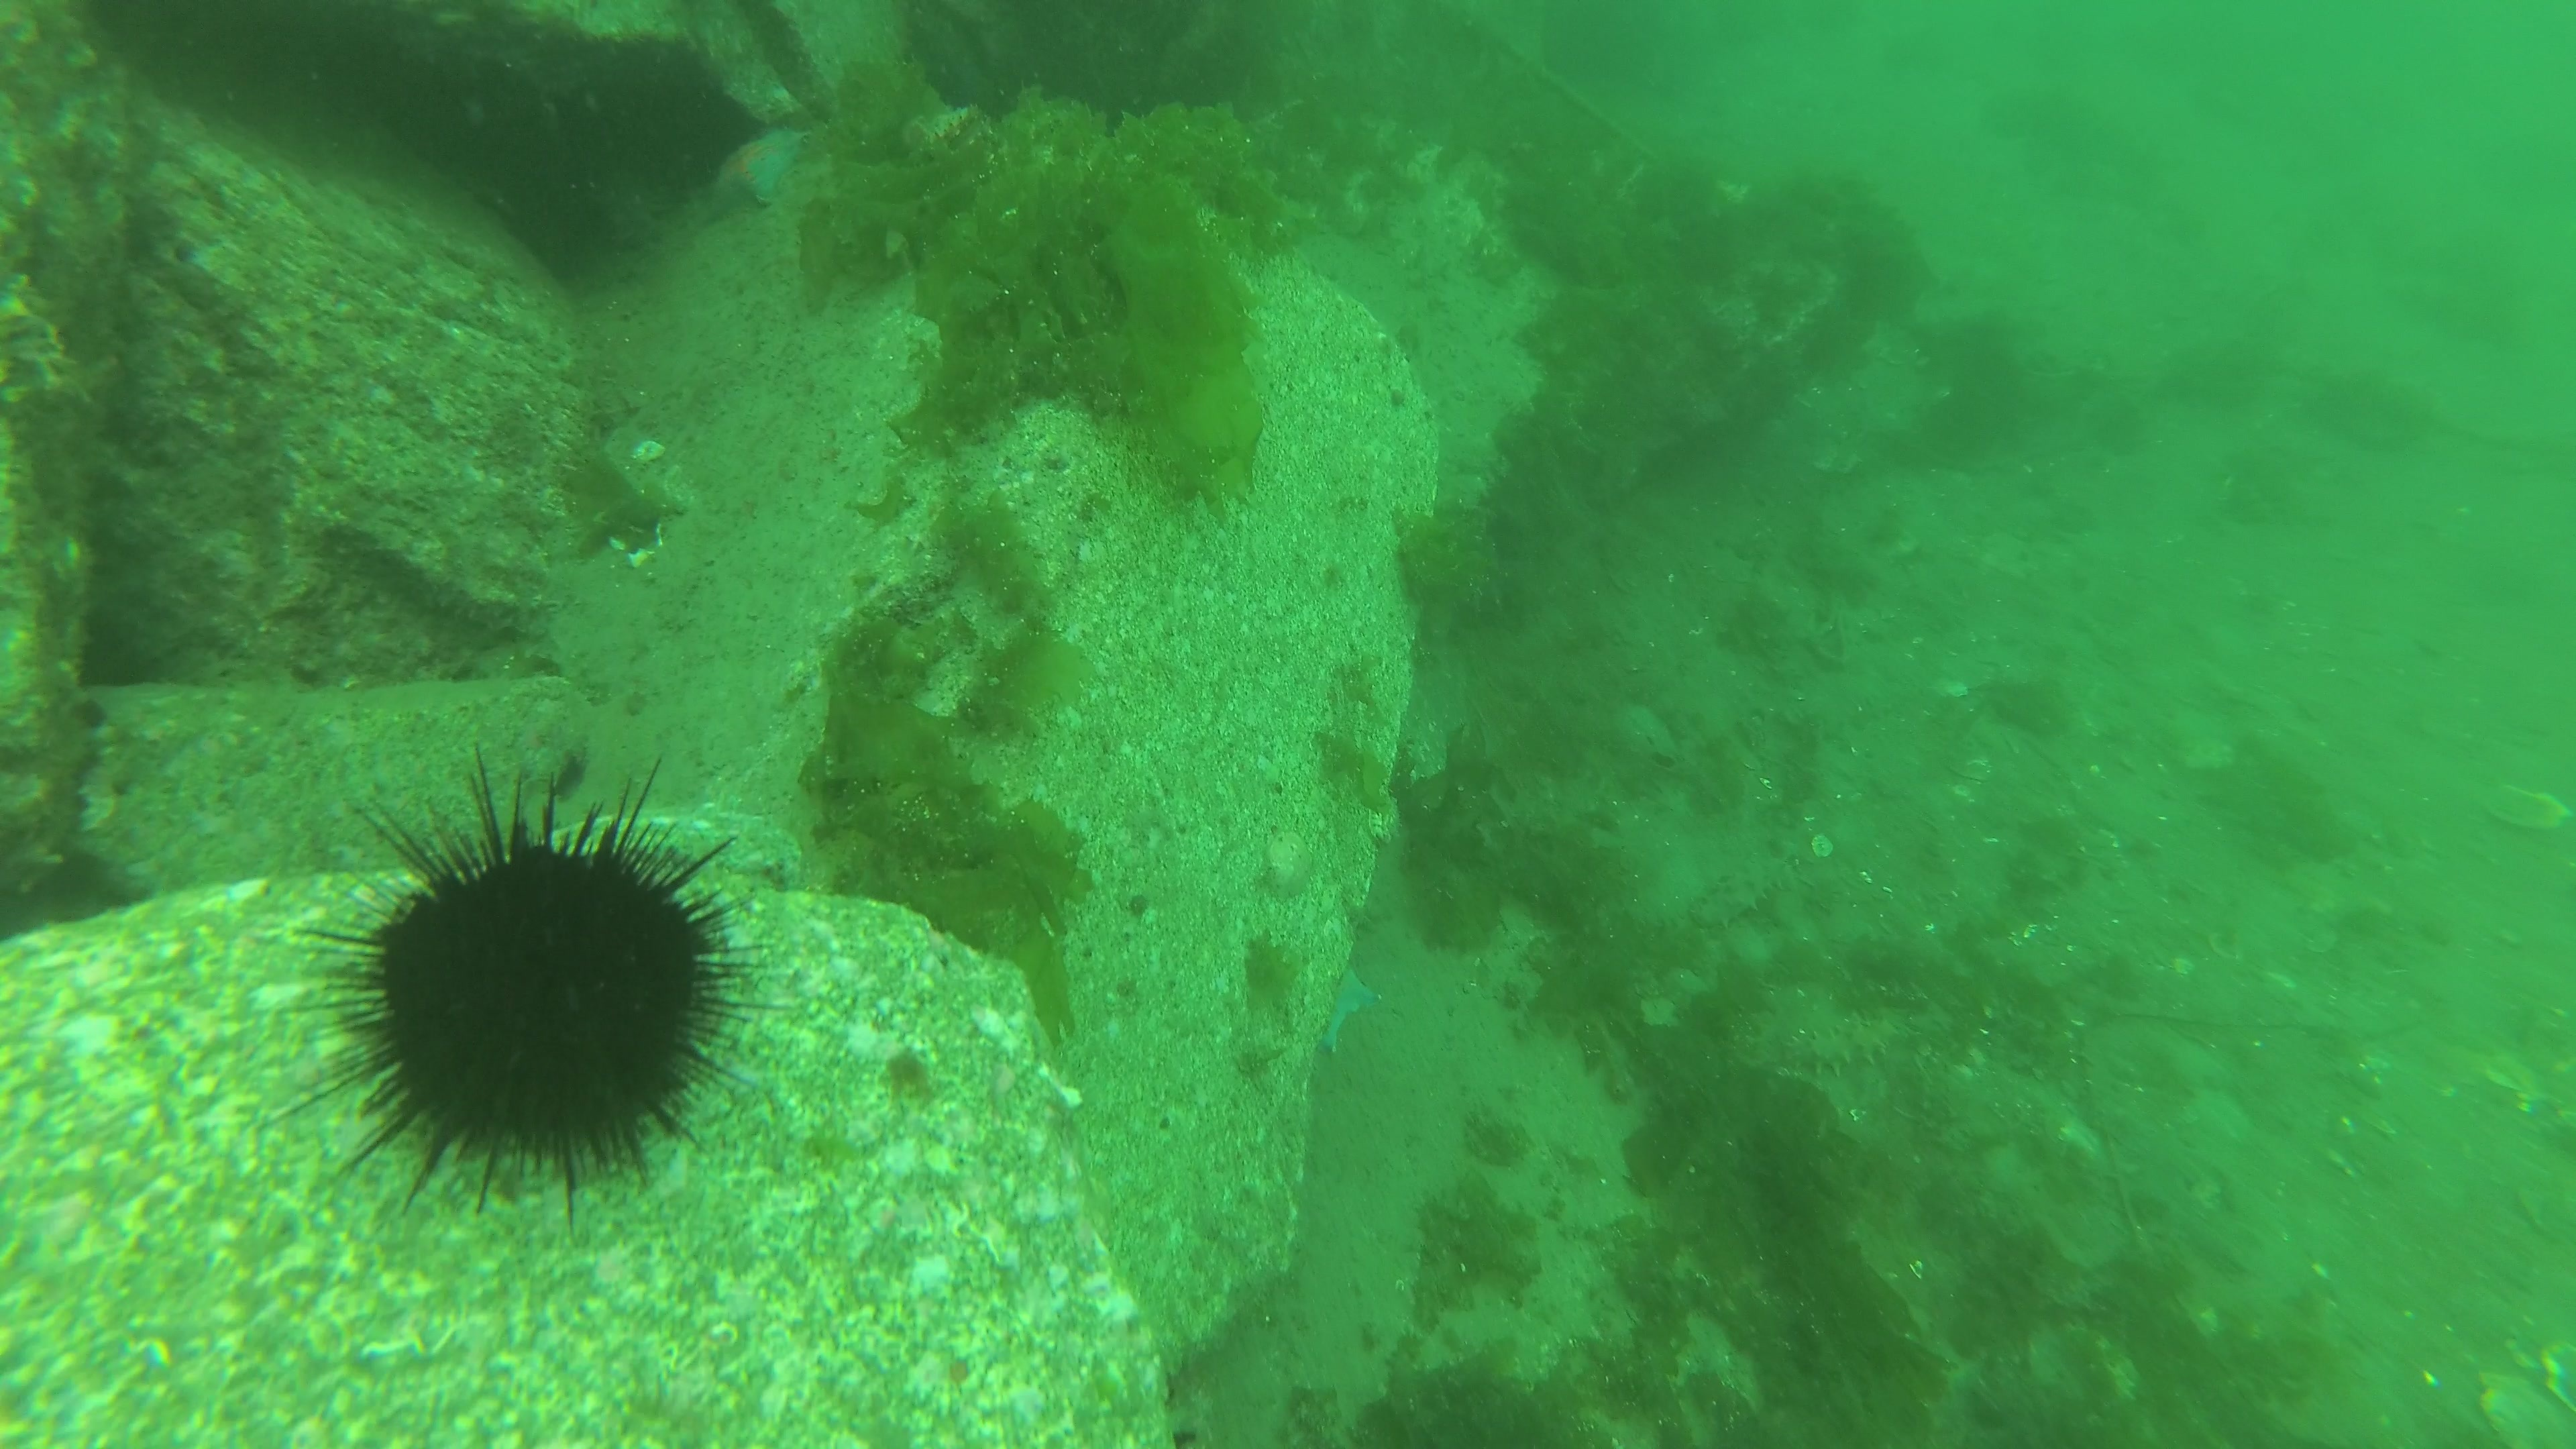echinus: (258, 734, 782, 1240)
holothurian: (1684, 853, 1801, 932), (1778, 1012, 1902, 1083)
starfish: (692, 117, 809, 230), (1311, 962, 1387, 1058)
